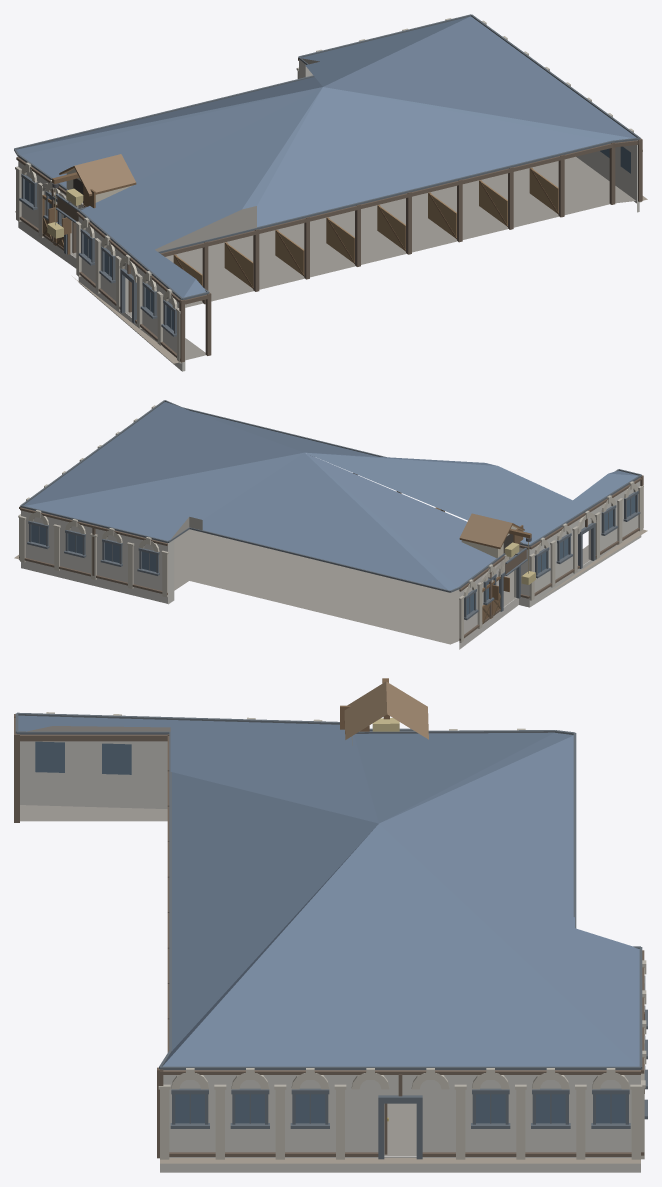
The picture shows the model from 3 angles, top to bottom: view 1: azimuth 30°, elevation 25°; view 2: azimuth 150°, elevation 25°; view 3: azimuth 270°, elevation 25°; orthographic projection. The views are drawn at different scales.
Visible parts, largest first — view 1: S01_visible; view 2: S01_visible; view 3: S01_visible.
Part boxes in pixels (bbox=[...]): S01_visible: bbox=[14, 14, 647, 371]; S01_visible: bbox=[14, 400, 647, 649]; S01_visible: bbox=[14, 678, 647, 1172].
Size of the model in its own units: 32.06 by 7.44 by 23.52.
